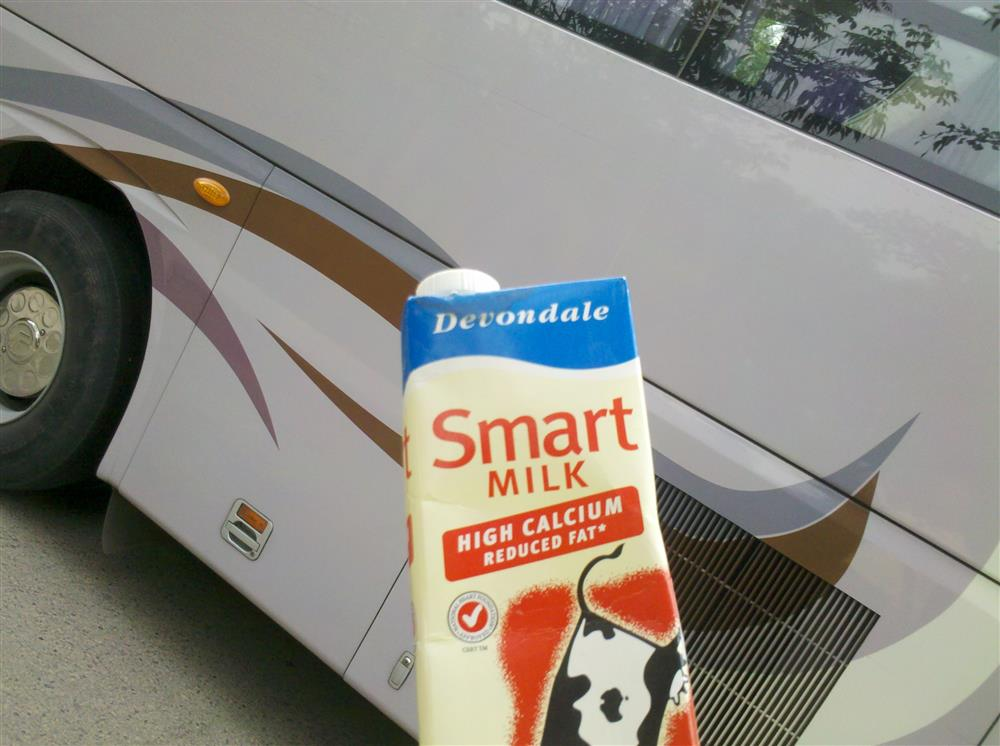Smart_Milk: (396, 259, 705, 738)
